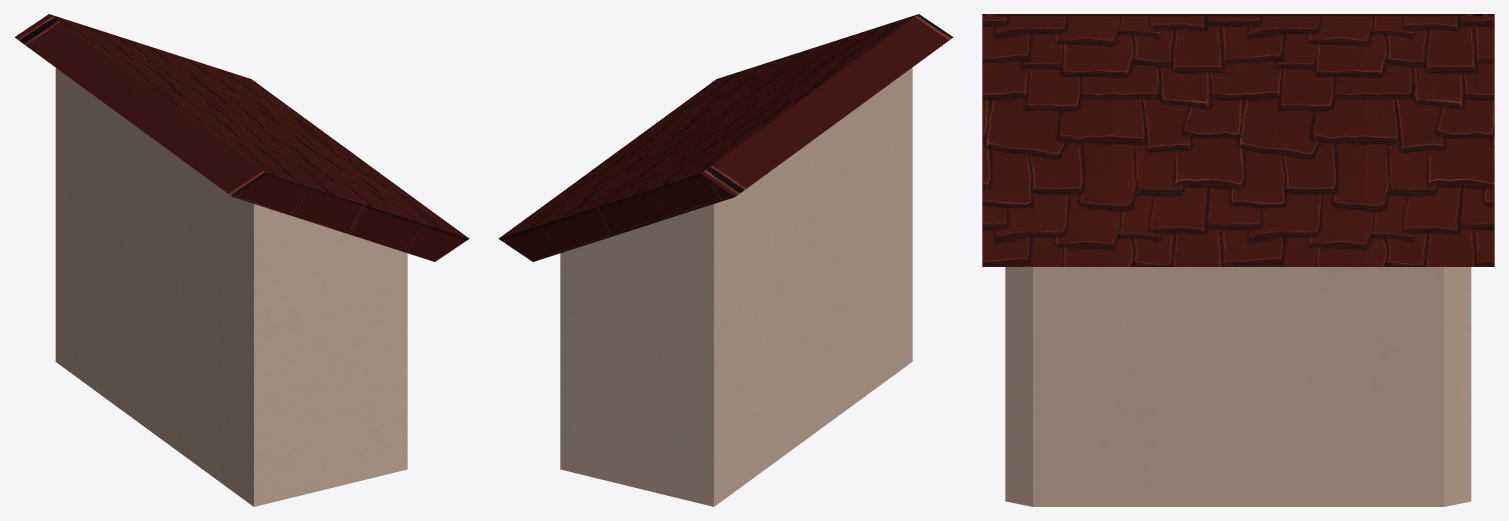
File: HouseAddon.fbx
The picture shows the model from 3 angles, left to right: view 1: azimuth 30°, elevation 25°; view 2: azimuth 150°, elevation 25°; view 3: azimuth 270°, elevation 25°; orthographic projection. The views are drawn at different scales.
Visible parts, largest first — view 1: Cube.022; view 2: Cube.022; view 3: Cube.022.
Boxes of the visible parts, x1,y1,x2,y2 form: Cube.022: [14, 14, 469, 506]; Cube.022: [498, 14, 953, 506]; Cube.022: [982, 14, 1494, 506].
Bounding box in the file's own units: 3.48 × 4.77 × 5.55.
